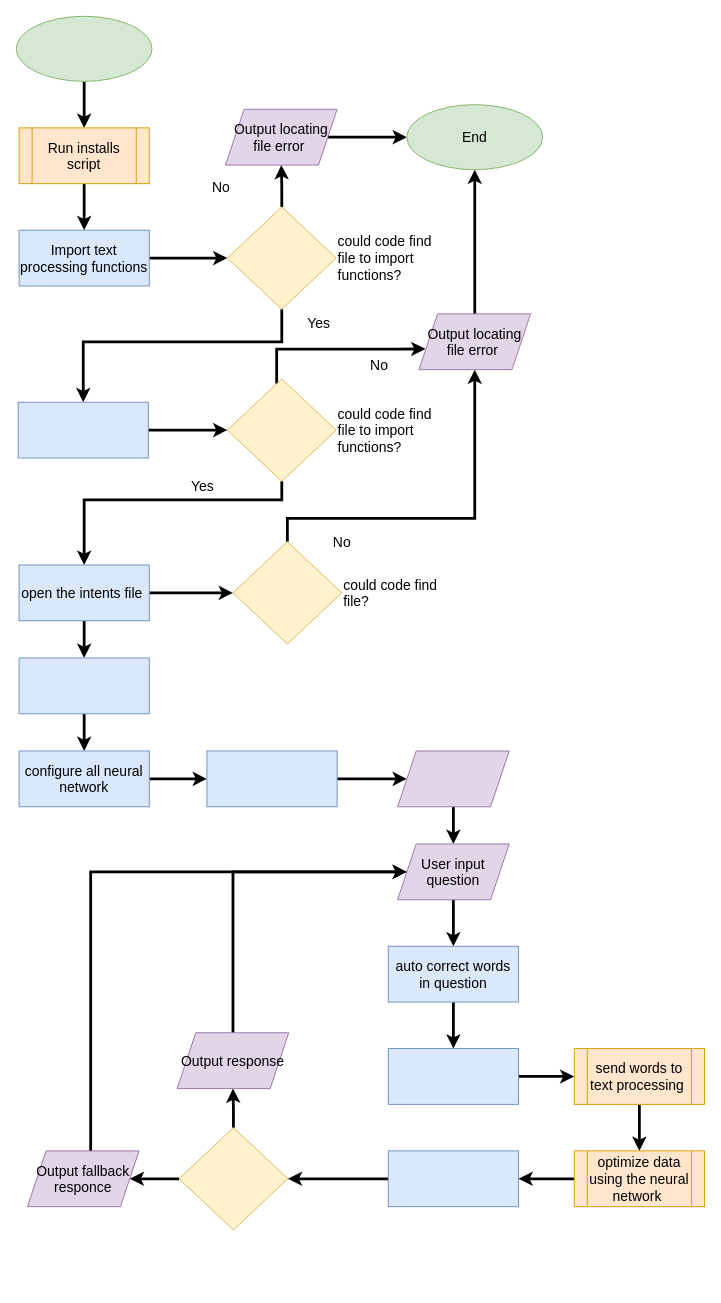
The diagram is 721 pixels wide and 1303 high, and some of its shapes have lost their labels. The centre of each missing label's shape, as x and y in pixels:
"assign the highest Probability tag" goes at point 452,1178.
"Import the neural network" goes at point 82,429.
"Is probability higher than 0.75" goes at point 233,1178.
"Make fall back responses" goes at point 83,685.
"Output chatbot is ready" goes at point 453,778.
"Start" goes at point 83,48.
"start network based on configs" goes at point 271,778.
"tokenize words in question" goes at point 452,1076.
